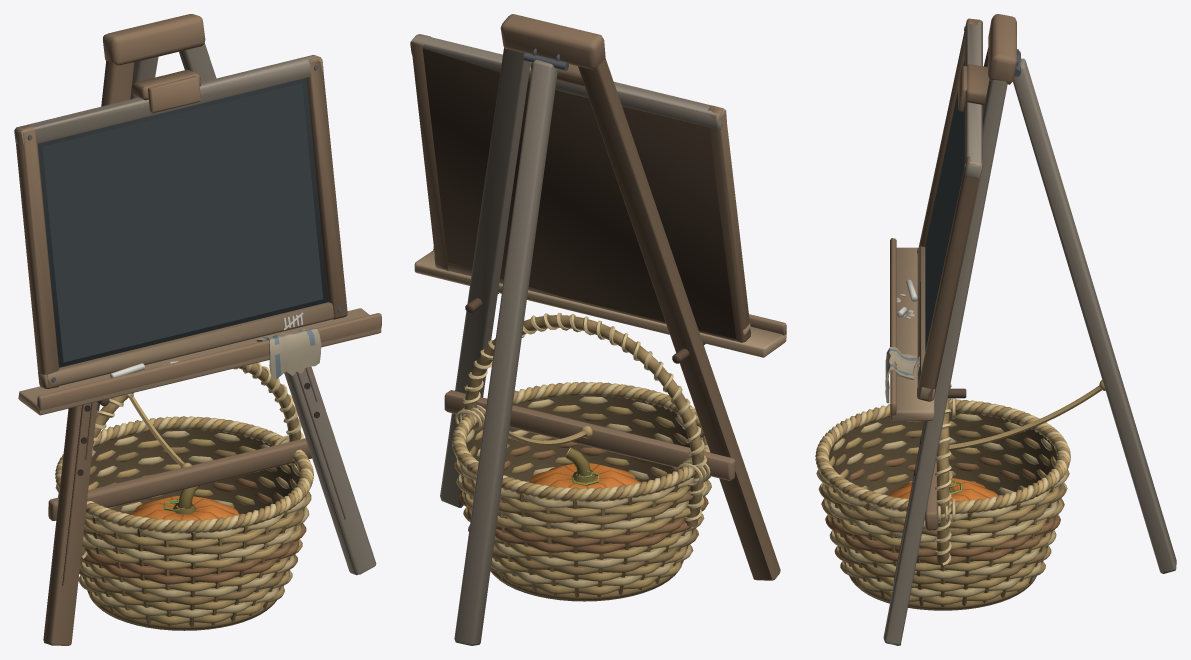
File: review_kit.glb
The picture shows the model from 3 angles, left to right: view 1: azimuth 30°, elevation 25°; view 2: azimuth 150°, elevation 25°; view 3: azimuth 270°, elevation 25°; orthographic projection. The views are drawn at different scales.
Parts seen in each view (by area): view 1: review_slate, slate_face, review_basket, crop_pumpkin; view 2: review_slate, review_basket, crop_pumpkin; view 3: review_slate, review_basket, slate_face, crop_pumpkin.
Part boxes in pixels (x1,y1,x2,y2): review_slate: (14,14,381,645); slate_face: (42,83,323,362); review_basket: (55,362,313,630); crop_pumpkin: (129,485,239,520); review_slate: (410,14,786,645); review_basket: (452,313,711,601); crop_pumpkin: (529,447,640,488); review_slate: (883,14,1176,645); review_basket: (815,383,1070,610); slate_face: (925,60,964,351); crop_pumpkin: (888,471,997,501).
Size of the model in its own units: 0.7616 by 1.15 by 0.7034.
